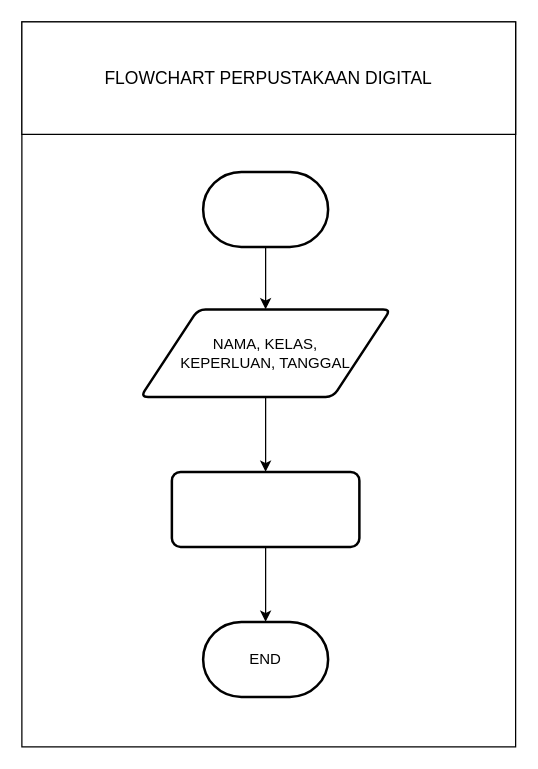
The diagram is 538 pixels wide and 769 high, and some of its shapes have lost their labels. Each missing label, with the box of its shape:
NAMA, KELAS, KEPERLUAN. TANGGAL: (170, 470, 360, 548)
START: (201, 170, 329, 248)
